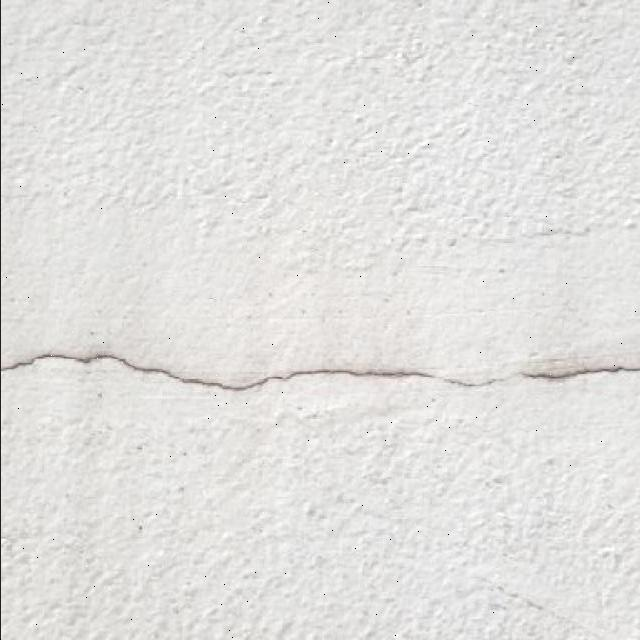crack: (1, 349, 639, 392)
